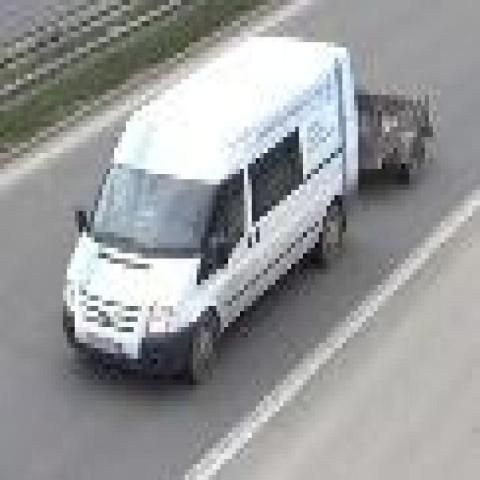van: (63, 38, 358, 386)
